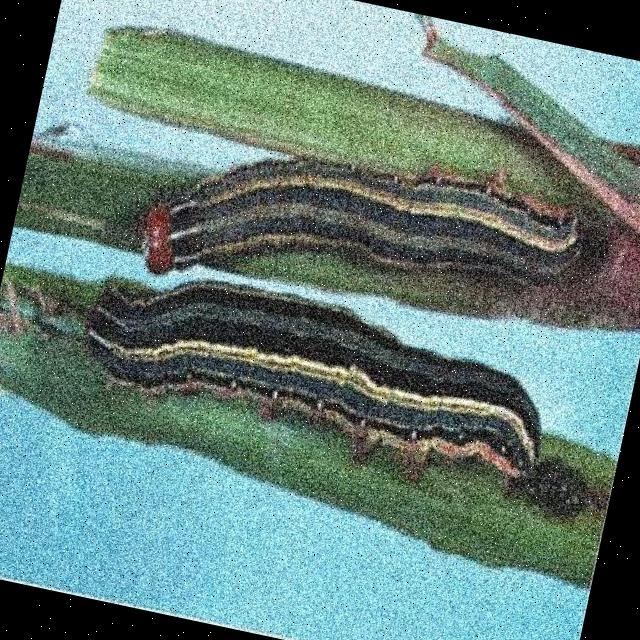worm: (66, 252, 565, 507), (130, 98, 598, 361)
